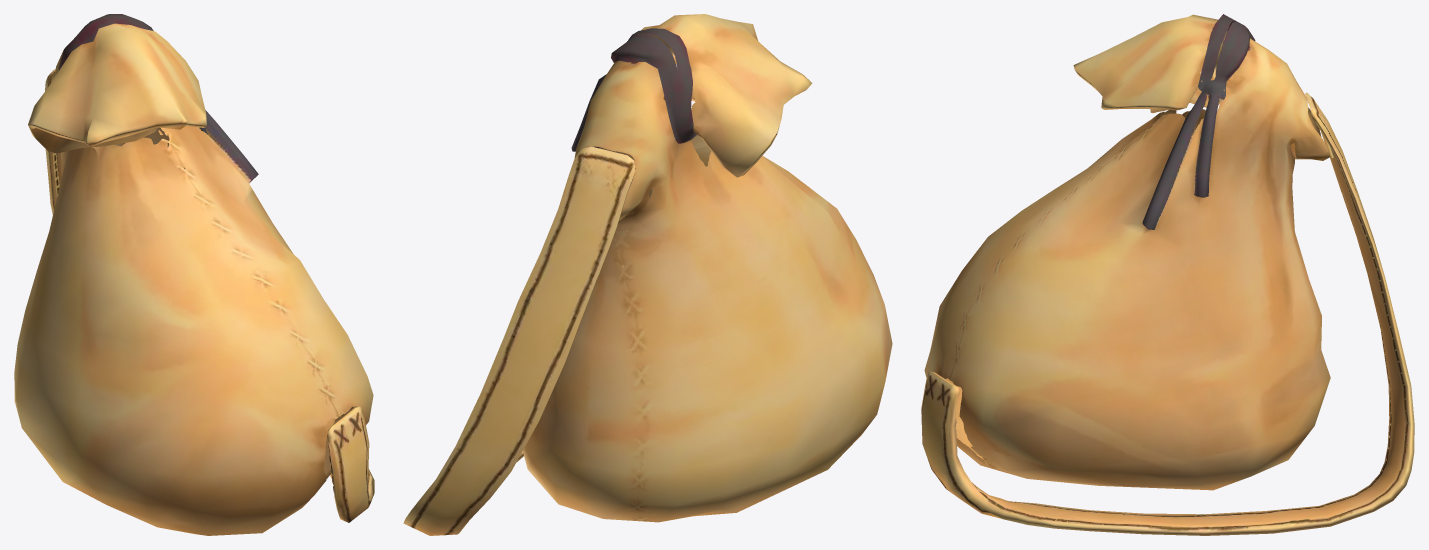
The picture shows the model from 3 angles, left to right: view 1: azimuth 30°, elevation 25°; view 2: azimuth 150°, elevation 25°; view 3: azimuth 270°, elevation 25°; orthographic projection. The views are drawn at different scales.
Parts seen in each view (by area): view 1: SM_Gold_Napsack_01_LOD0; view 2: SM_Gold_Napsack_01_LOD0; view 3: SM_Gold_Napsack_01_LOD0.
Part boxes in pixels (<box>): SM_Gold_Napsack_01_LOD0: <box>14,14,374,535</box>; SM_Gold_Napsack_01_LOD0: <box>403,14,892,535</box>; SM_Gold_Napsack_01_LOD0: <box>921,14,1414,535</box>.
Bounding box in the file's own units: 0.2648 × 0.3751 × 0.3838.
1 material, 1 textured.
